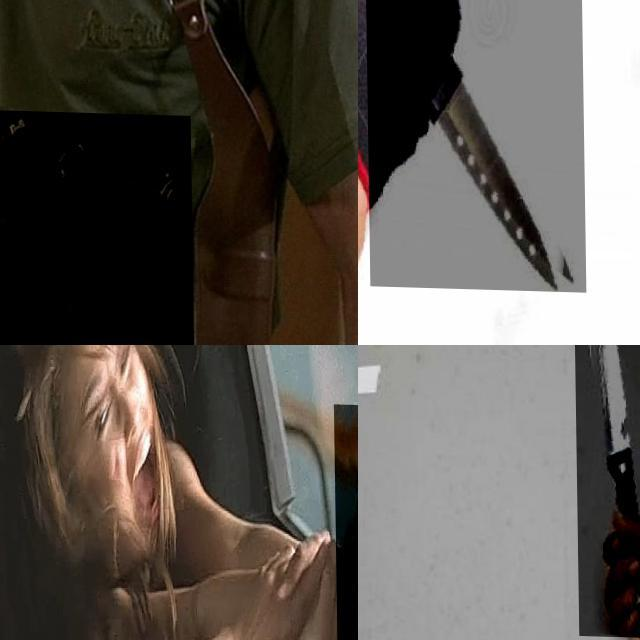-: (364, 0, 584, 290), (574, 345, 640, 636)
gun-knife-thesis - v11 Yolov5 augmented: (0, 108, 192, 345)
